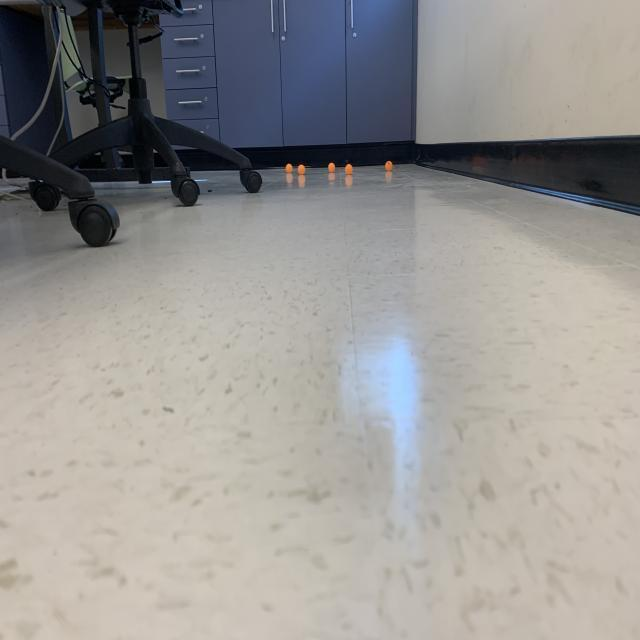ping-pong-ball: (297, 163, 306, 176), (284, 162, 294, 173), (344, 163, 352, 175), (328, 162, 336, 173), (384, 160, 392, 171)
